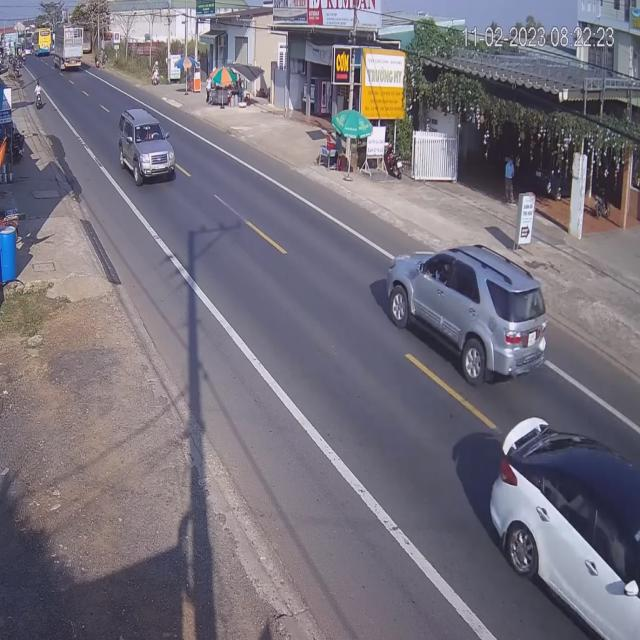bus: (34, 24, 51, 56)
car: (494, 417, 640, 640), (386, 241, 550, 375), (121, 108, 178, 186)
motorbike: (34, 80, 44, 108)
truck: (54, 30, 85, 68)
